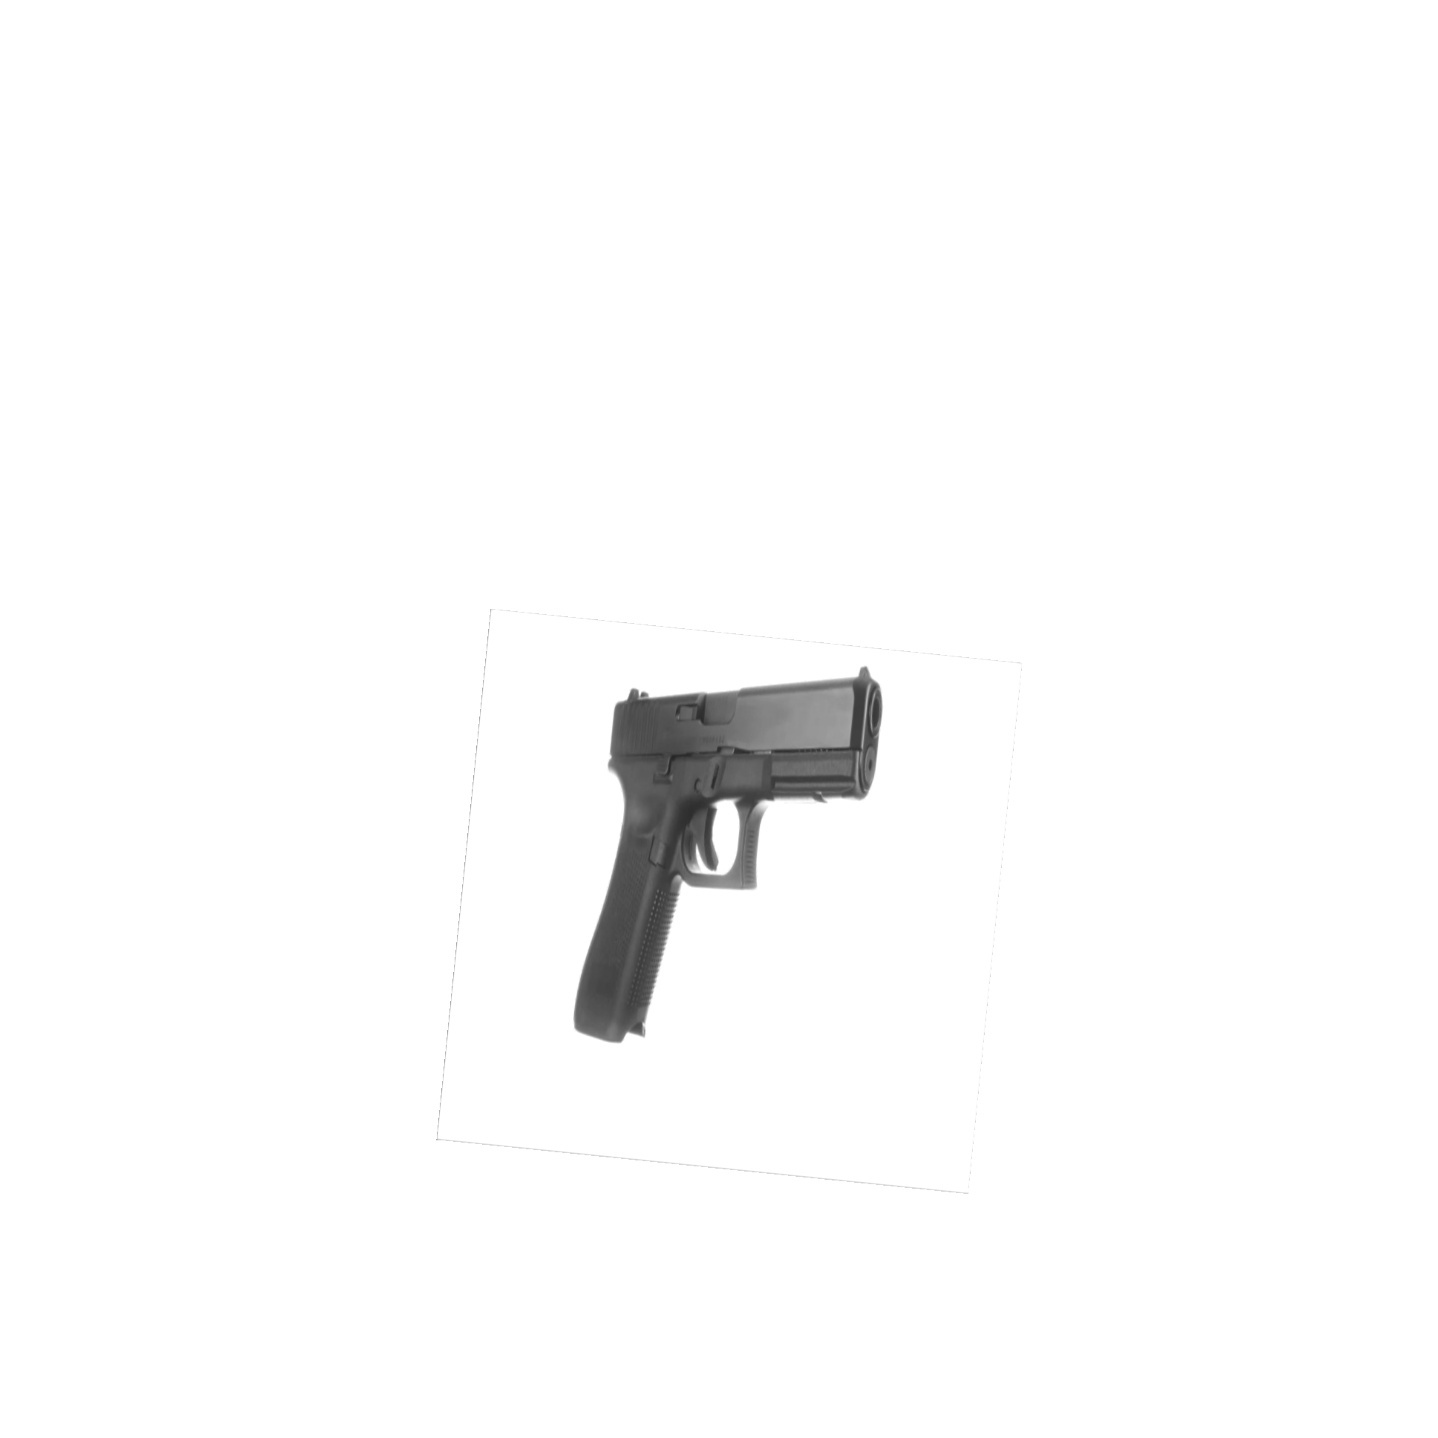gun: (561, 666, 909, 1056)
